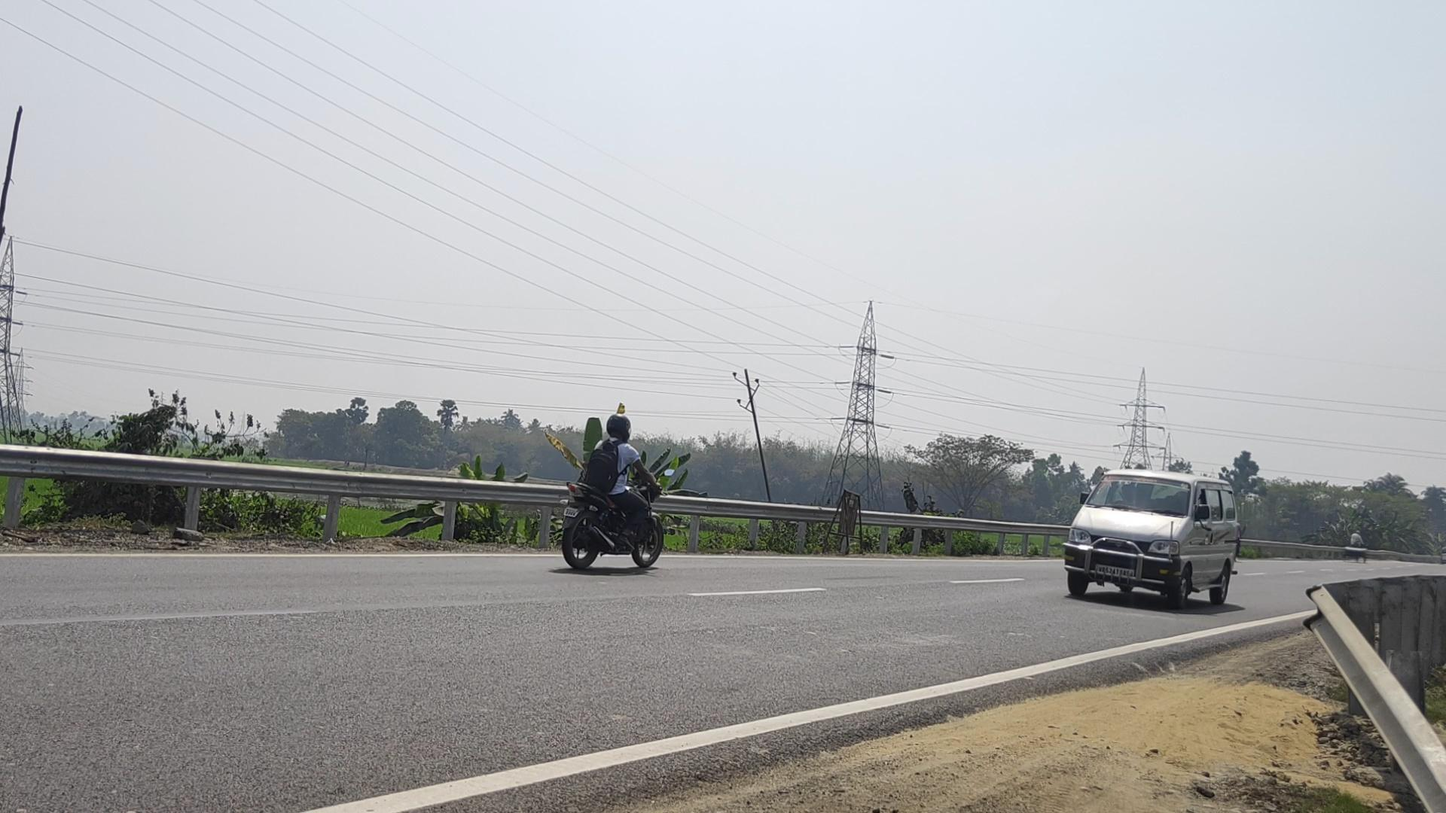bike: (559, 414, 675, 571)
van: (1063, 468, 1238, 611)
